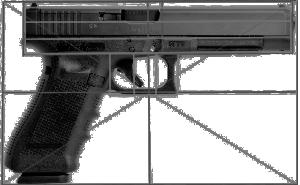handgun: (7, 2, 298, 181)
